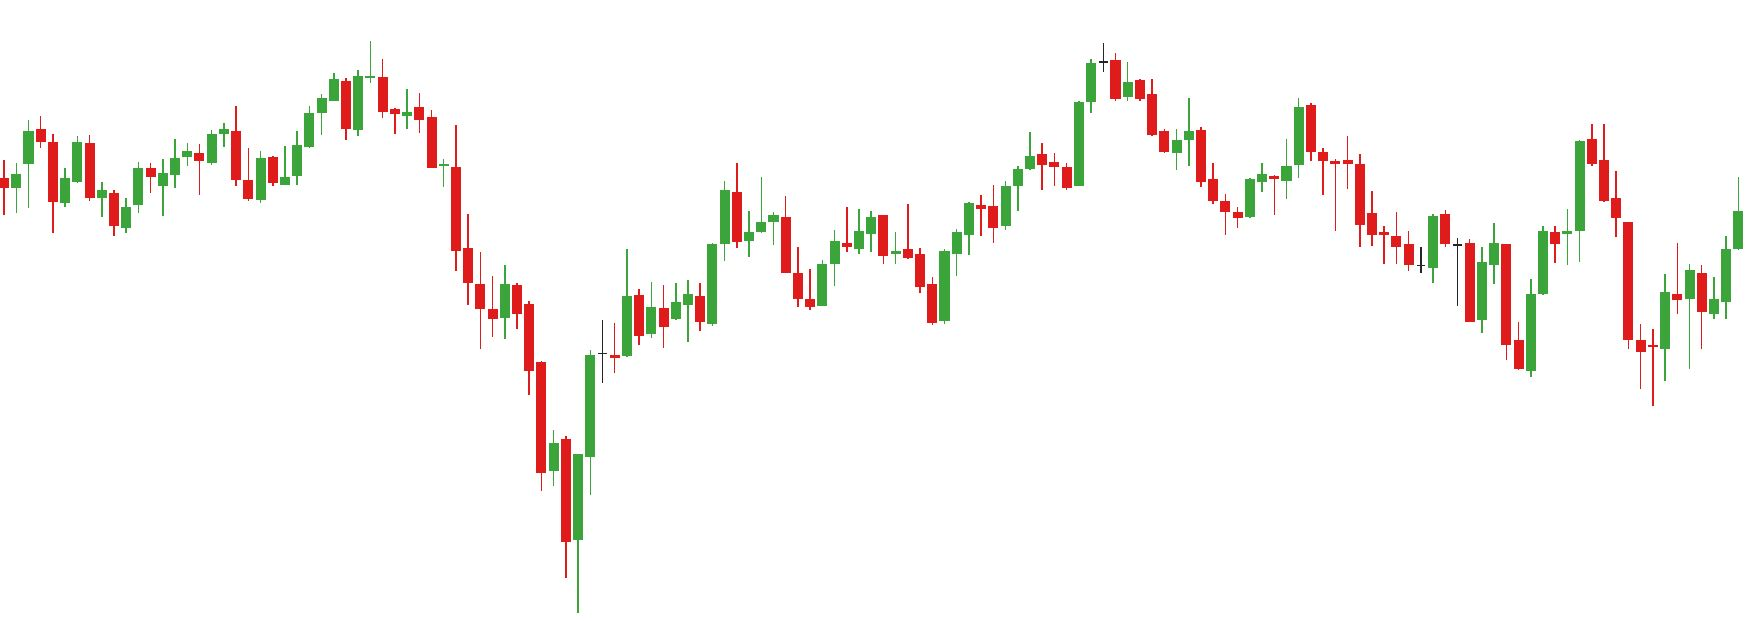buy: (1514, 252, 1672, 418), (805, 224, 953, 333)
